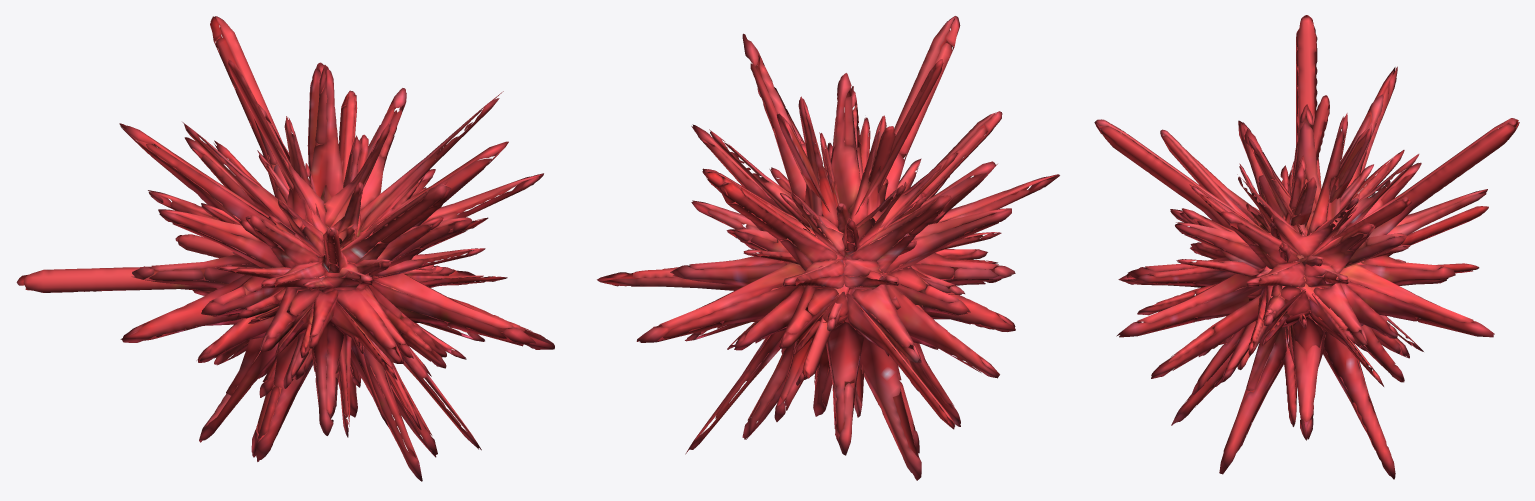
File: TiberiumPos.FBX
The picture shows the model from 3 angles, left to right: view 1: azimuth 30°, elevation 25°; view 2: azimuth 150°, elevation 25°; view 3: azimuth 270°, elevation 25°; orthographic projection. The views are drawn at different scales.
Visible parts, largest first — view 1: GeoSphere02, GeoSphere03; view 2: GeoSphere02, GeoSphere03; view 3: GeoSphere02, GeoSphere03.
Part boxes in pixels (x1,y1,x2,y2): GeoSphere02: (16,16,554,481); GeoSphere03: (175,90,507,437); GeoSphere02: (597,16,1059,480); GeoSphere03: (704,86,1002,417); GeoSphere02: (1094,15,1519,479); GeoSphere03: (1132,95,1479,426).
Bounding box in the file's own units: 220829 × 214192 × 209975.
Materials: 1 (1 with a texture image).
